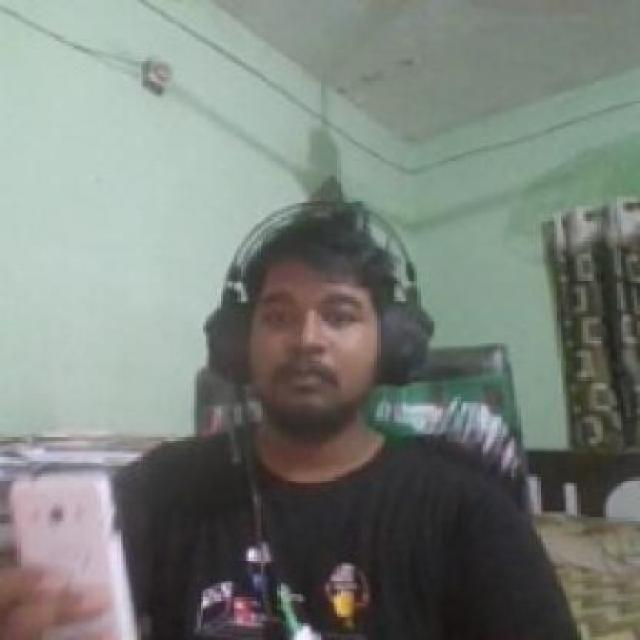Phone: (10, 472, 131, 638)
